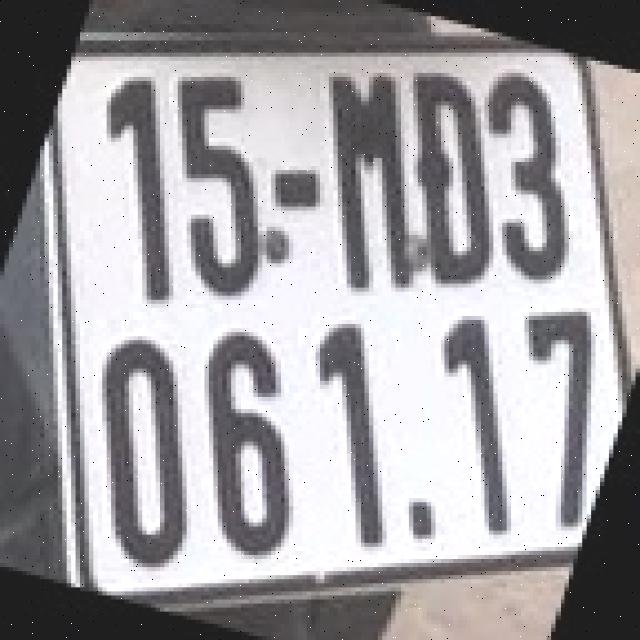0: (100, 336, 189, 567)
1: (313, 324, 398, 547), (438, 314, 522, 537), (104, 79, 176, 298)
3: (487, 75, 571, 277)
5: (178, 71, 262, 298)
6: (202, 328, 296, 555)
7: (524, 306, 600, 528)
D: (411, 71, 496, 290)
M: (329, 69, 413, 292)
